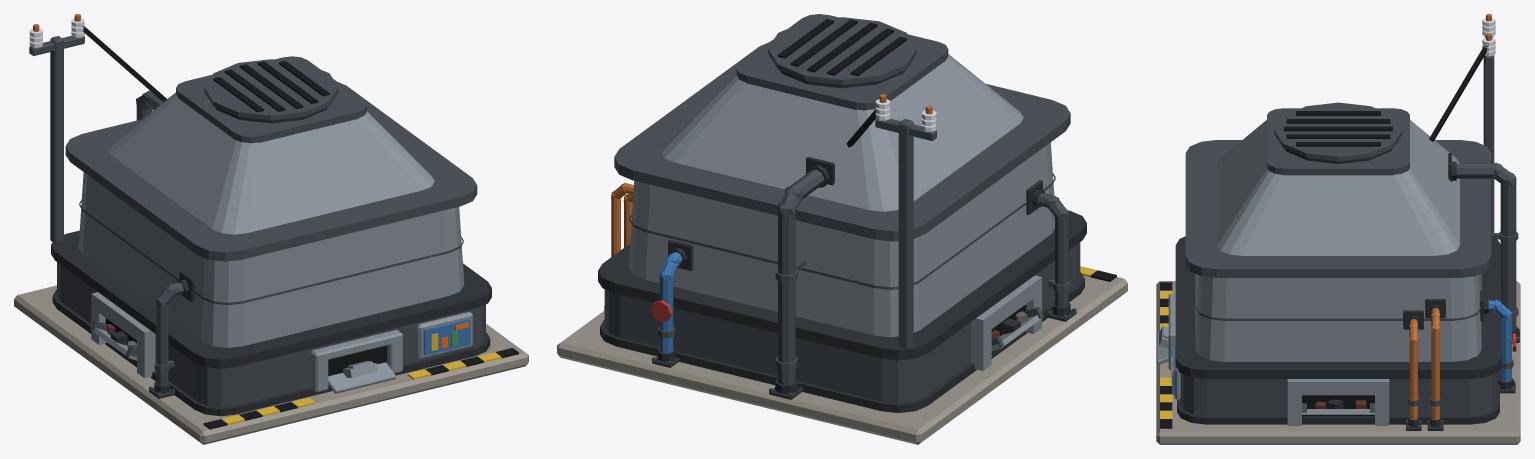
File: fourneau_electrique_t2.glb
3 views of the same model, side by side, from view 1: azimuth 30°, elevation 25°; view 2: azimuth 150°, elevation 25°; view 3: azimuth 270°, elevation 25° (orthographic). The views are drawn at different scales.
Parts seen in each view (by area): view 1: corps.004, pyramide.002, palier.002, dalle.004, socle_bandeau.002, socle.002, pieces_acier_sombre.004, pieces_acier.002, grille_bord.002, pyramide_rebord.002, pieces_noir.004, socle_plinthe.002 (+7 smaller); view 2: corps.004, pyramide.002, palier.002, dalle.004, socle.002, socle_bandeau.002, pieces_acier_sombre.004, grille_bord.002, pyramide_rebord.002, socle_plinthe.002, pieces_noir.004, pieces_acier.002 (+4 smaller); view 3: pyramide.002, corps.004, palier.002, dalle.004, socle_bandeau.002, socle.002, pieces_acier_sombre.004, pieces_noir.004, grille_bord.002, pyramide_rebord.002, pieces_acier.002, socle_plinthe.002 (+5 smaller).
Boxes of the visible parts, x1,y1,x2,y2 form: corps.004: (78, 172, 464, 347); pyramide.002: (108, 92, 434, 234); palier.002: (65, 82, 477, 261); dalle.004: (14, 285, 528, 444); socle_bandeau.002: (51, 230, 491, 368); socle.002: (57, 262, 485, 407); pieces_acier_sombre.004: (29, 36, 183, 396); pieces_acier.002: (91, 292, 402, 392); grille_bord.002: (204, 59, 338, 120); pyramide_rebord.002: (176, 56, 366, 143); pieces_noir.004: (82, 26, 518, 429); socle_plinthe.002: (52, 289, 490, 416); corps.004: (628, 142, 1054, 337); pyramide.002: (661, 54, 1023, 211); palier.002: (614, 42, 1070, 241); dalle.004: (557, 275, 1127, 444); socle.002: (604, 242, 1080, 403); socle_bandeau.002: (598, 210, 1086, 360); pieces_acier_sombre.004: (604, 118, 1076, 396); grille_bord.002: (768, 17, 916, 84); pyramide_rebord.002: (736, 14, 948, 110); socle_plinthe.002: (600, 272, 1084, 412); pieces_noir.004: (777, 19, 1116, 335); pieces_acier.002: (971, 275, 1041, 370); pyramide.002: (1217, 120, 1459, 255); corps.004: (1195, 274, 1481, 361); palier.002: (1185, 140, 1491, 277); dalle.004: (1156, 281, 1520, 444); socle_bandeau.002: (1175, 236, 1501, 378); socle.002: (1180, 373, 1496, 416); pieces_acier_sombre.004: (1302, 36, 1519, 428); pieces_noir.004: (1160, 45, 1488, 428); grille_bord.002: (1274, 102, 1402, 161); pyramide_rebord.002: (1267, 108, 1409, 175); pieces_acier.002: (1168, 293, 1389, 425); socle_plinthe.002: (1177, 369, 1499, 424).
Size of the model in its own units: 1.5 by 1.28 by 1.5.
